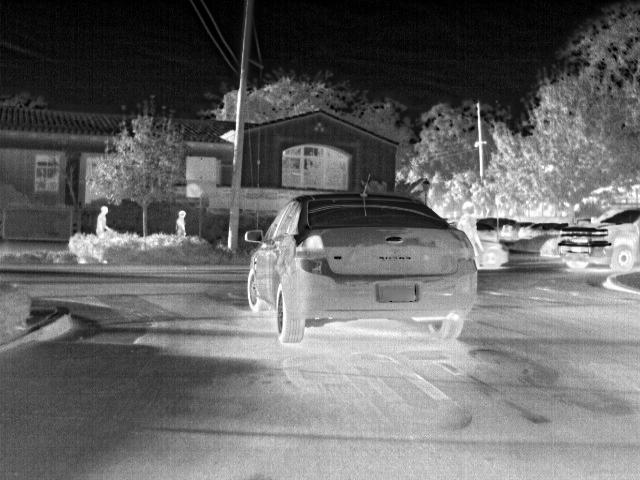car: (245, 190, 480, 343), (556, 203, 640, 271), (481, 214, 505, 265), (524, 221, 559, 238), (502, 214, 520, 234), (514, 219, 532, 238), (449, 213, 460, 223)
person: (461, 200, 479, 232), (96, 206, 113, 236), (175, 209, 189, 236)
